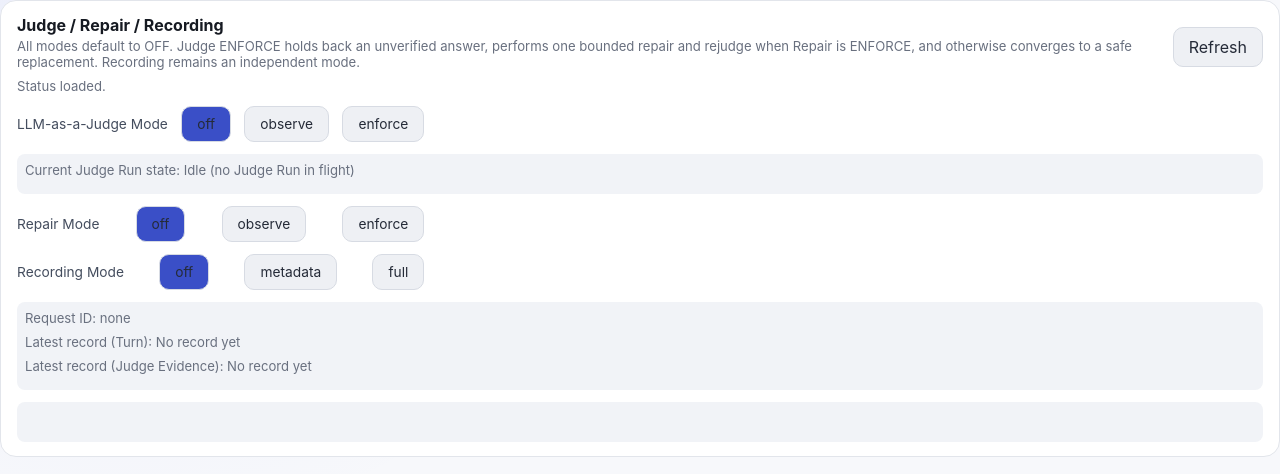
Test case: FeatureModesPanel › P9-1 UF-UI-017: a Repair Mode change never notifies Judge readiness changed
Click the radio button with id "feature-modes-repair-enforce" at (383, 224), box [342,206,424,242]
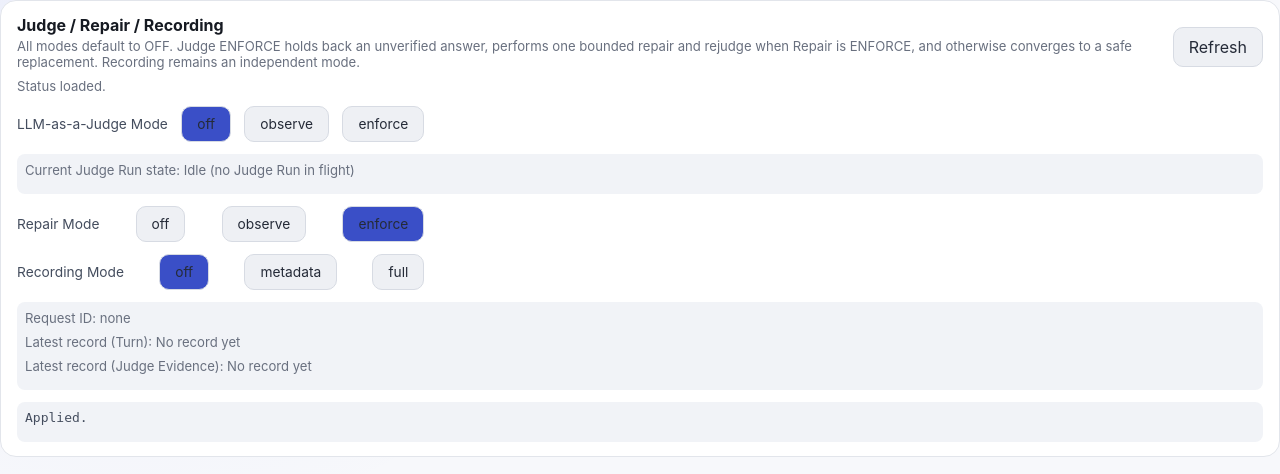
Result: the text "Applied." is shown at [17,402,1263,442]
